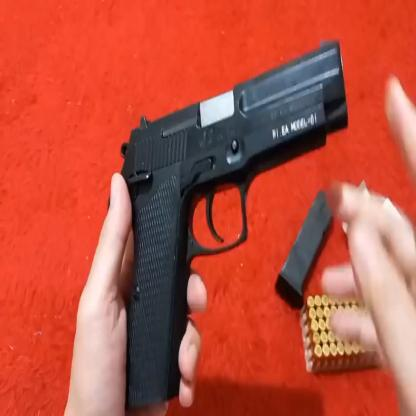handgun: (121, 34, 354, 416)
